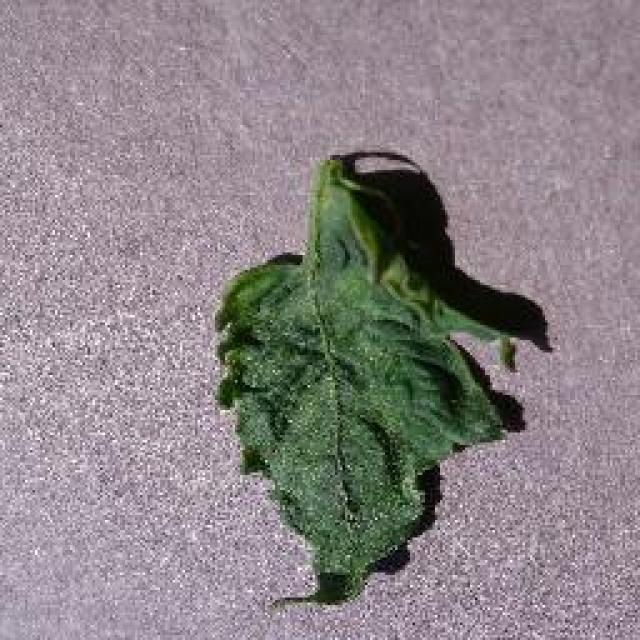Tomato___Tomato_mosaic_virus: (215, 158, 512, 602)
